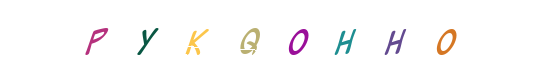H: (282, 0, 362, 80), (355, 0, 435, 80)
K: (205, 0, 285, 80)
O: (234, 0, 314, 80), (406, 0, 486, 80)
P: (106, 0, 186, 80)
Q: (232, 0, 312, 80)
Y: (170, 0, 250, 80)
